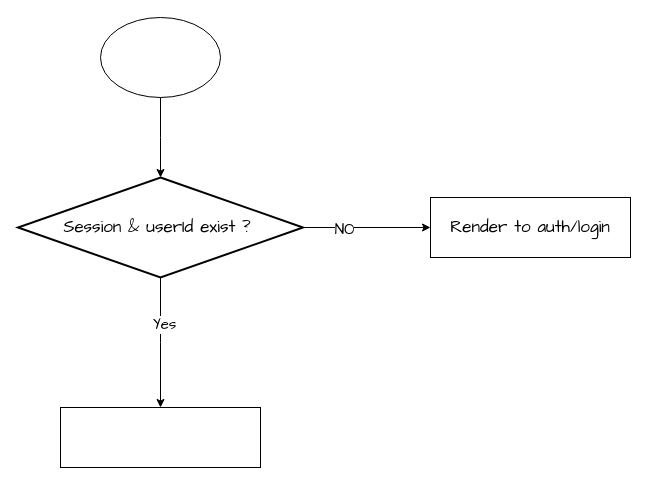
This 648x485 diagram has some shape labels left out. Each missing label, with the centre of its shape:
GET /login: the point at 160,57
Redirect to auth/channel: the point at 160,437
